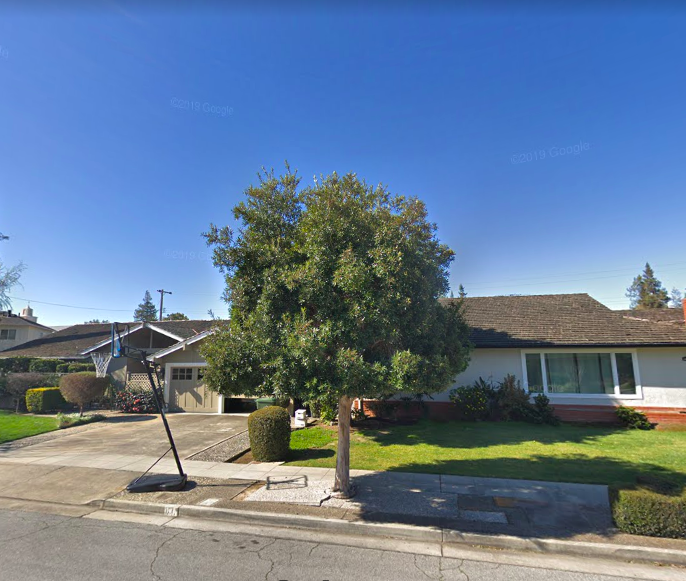tree: (196, 158, 473, 499)
